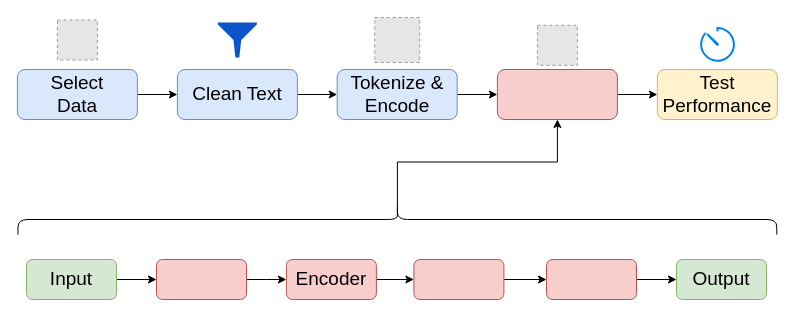
This 795x317 diagram has some shape labels left out. Grey dashed boxes stand in for pictures. Here are the shapes that lost their labels. From the top down, the box of each, then its label:
(496, 68, 617, 120): Build and Train NN
(156, 258, 246, 300): Embeddings
(413, 258, 504, 300): Decoder
(546, 258, 636, 300): Dense
